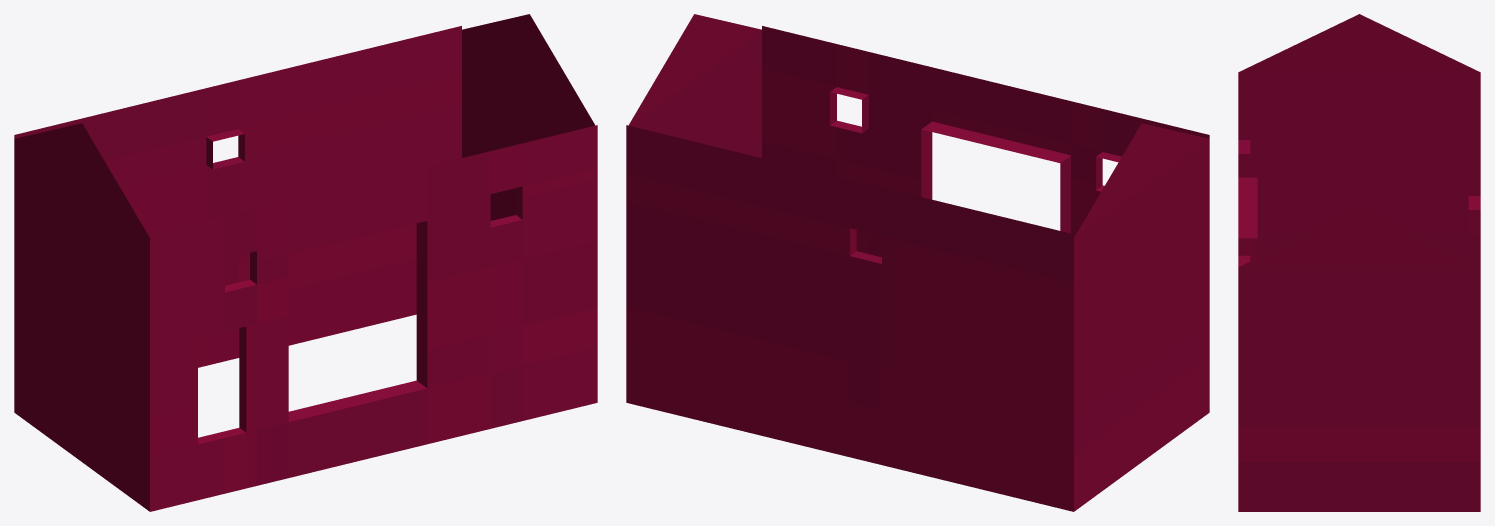
Rendered from SM_Bld_157_Masonry.glb.
3 renders of one model, left to right at view 1: azimuth 30°, elevation 25°; view 2: azimuth 150°, elevation 25°; view 3: azimuth 270°, elevation 25°, orthographic. The views are drawn at different scales.
Parts seen in each view (by area): view 1: SM_Bld_157_Masonry; view 2: SM_Bld_157_Masonry; view 3: SM_Bld_157_Masonry.
Boxes of the visible parts, x1,y1,x2,y2 form: SM_Bld_157_Masonry: (14,14,597,511); SM_Bld_157_Masonry: (626,14,1209,511); SM_Bld_157_Masonry: (1238,14,1480,511).
Size of the model in its own units: 8.38 by 6.07 by 4.4.
